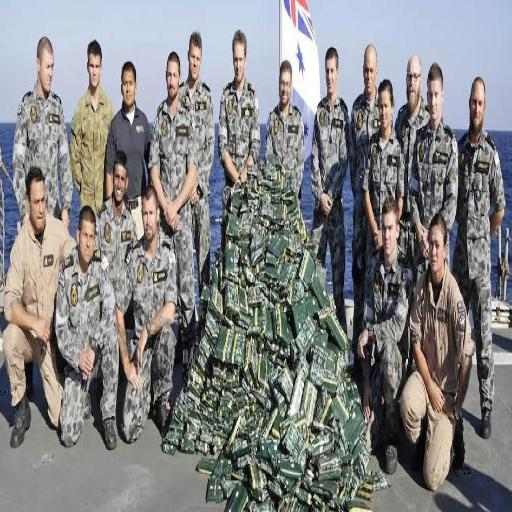person: (400, 213, 474, 490), (3, 167, 75, 447), (453, 78, 505, 438), (150, 52, 197, 380), (116, 186, 176, 442), (56, 207, 118, 450), (358, 196, 410, 474), (13, 37, 72, 227), (311, 47, 348, 331), (410, 64, 457, 278), (349, 45, 379, 355), (218, 30, 260, 247), (180, 32, 214, 295), (105, 61, 151, 238), (363, 80, 404, 268), (71, 40, 113, 212), (395, 55, 429, 265), (96, 151, 137, 295), (265, 61, 305, 198)
